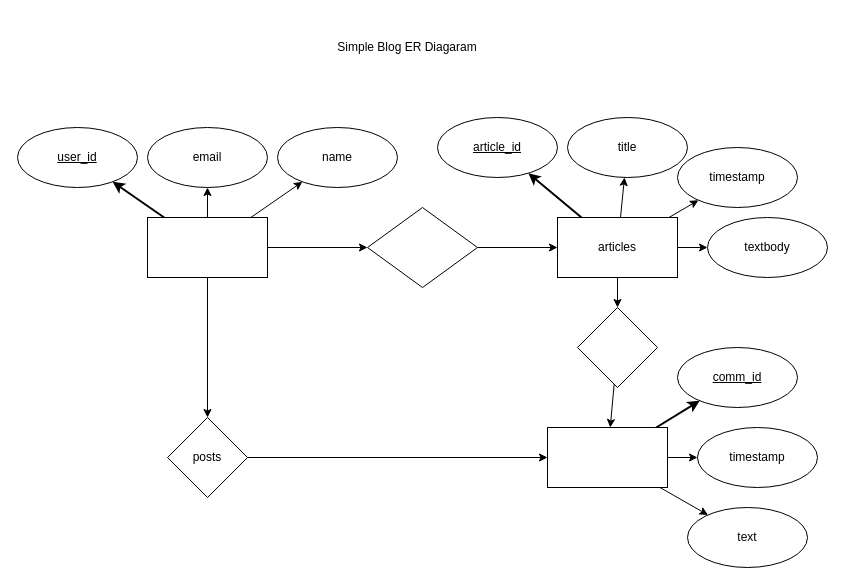
Image size: 845x585. Some labels were removed from this diagram. The shapes that lost their labels are listed below. From the top down, each one's box as (x1, y1, x2, y2) in pixels, then its label:
(146, 216, 268, 278): User
(366, 206, 478, 288): writes
(576, 306, 658, 388): has
(546, 426, 668, 488): comments
